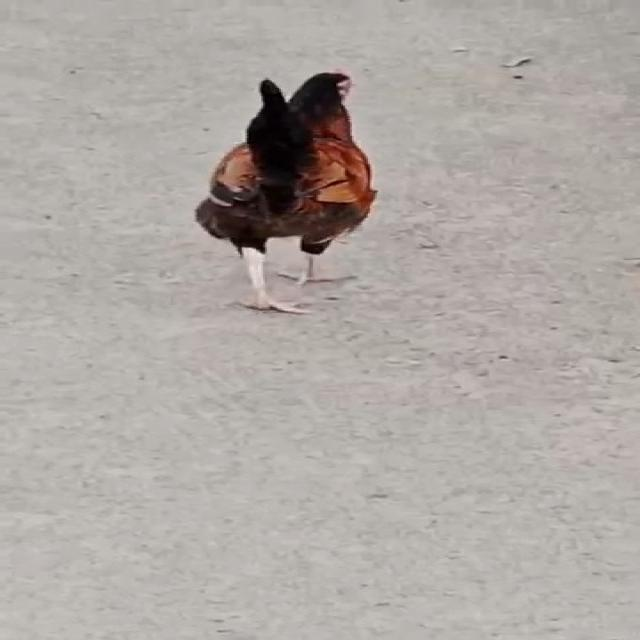walking: (192, 60, 384, 316)
